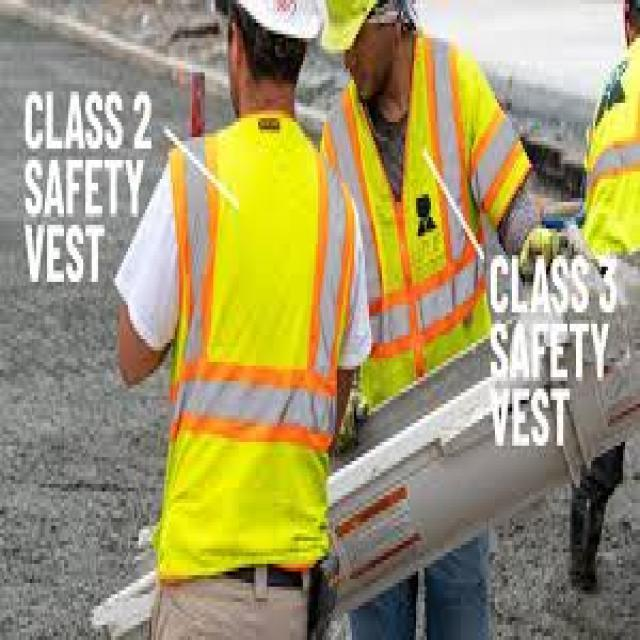Gloves: (517, 225, 561, 278)
Hardhat: (234, 0, 321, 40), (318, 0, 386, 51)
Person: (318, 0, 588, 640), (118, 0, 367, 640), (571, 1, 640, 592)
Safety Vest: (163, 108, 355, 584), (334, 59, 503, 406)
